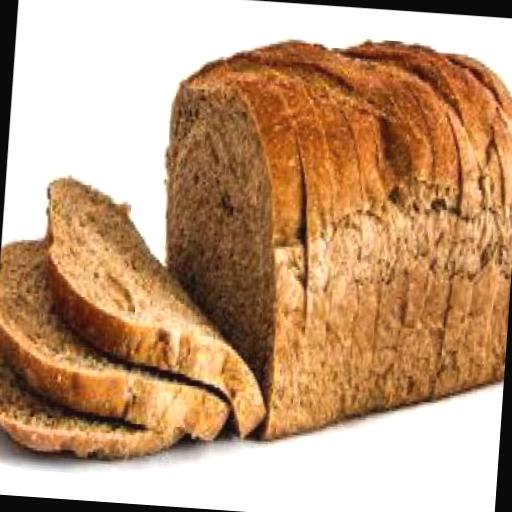biodegradable: (147, 21, 512, 452), (31, 172, 284, 440), (148, 56, 324, 436), (0, 234, 242, 440), (0, 343, 187, 462)
